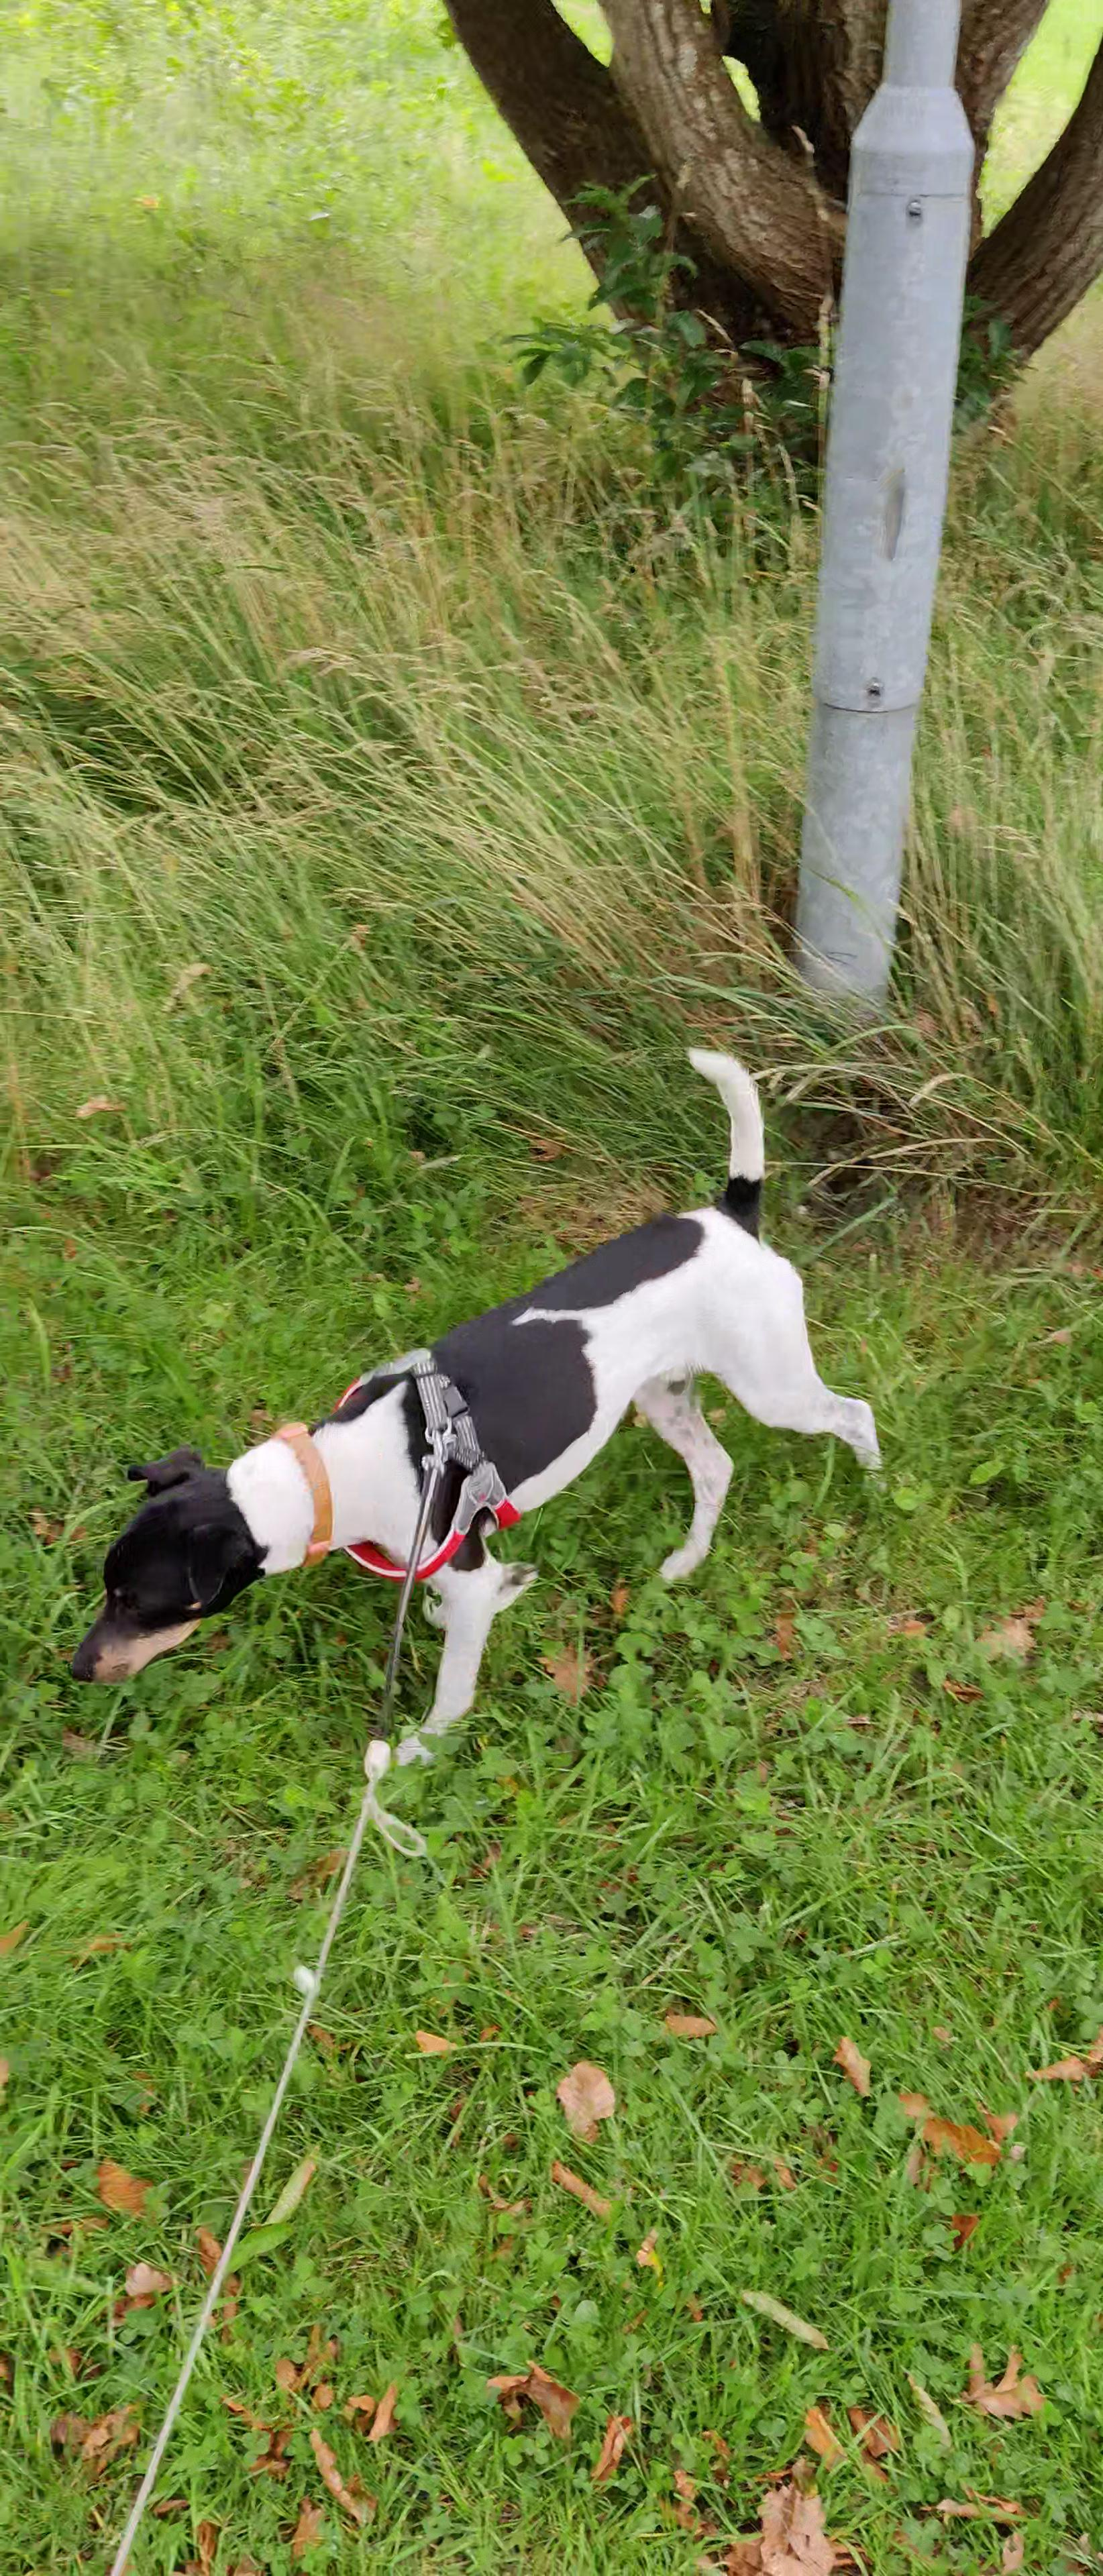Dog: (61, 1046, 886, 1771)
